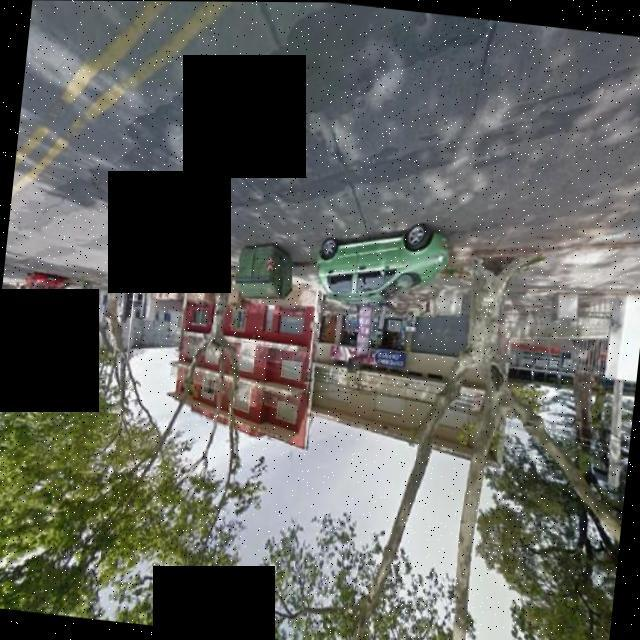bin: (226, 230, 302, 309)
